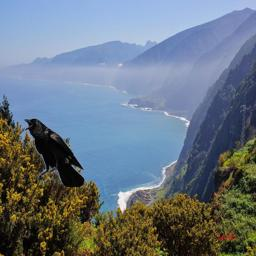Crow: (24, 117, 85, 187)
